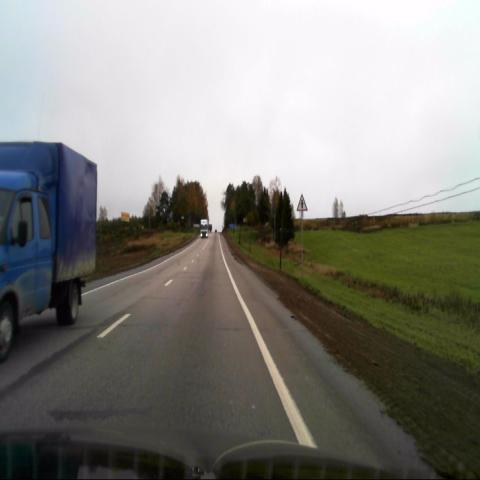2_3: (296, 194, 308, 211)
